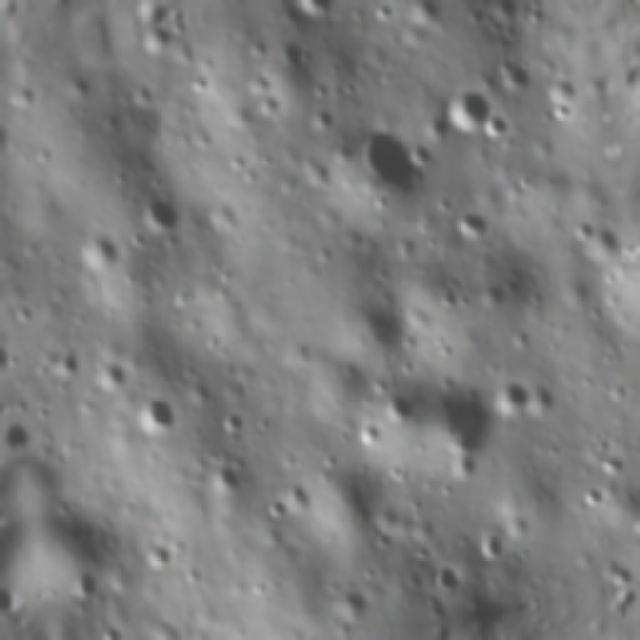crater: (344, 118, 428, 215), (419, 377, 506, 465), (435, 76, 497, 142), (74, 226, 126, 279), (491, 52, 538, 106), (132, 387, 179, 441), (488, 375, 538, 423), (450, 200, 498, 248), (133, 192, 182, 238), (589, 442, 631, 486), (135, 22, 182, 61), (90, 356, 133, 398), (202, 460, 244, 502), (379, 386, 418, 429), (428, 558, 468, 596), (49, 344, 85, 385), (477, 528, 512, 570), (303, 99, 340, 138), (402, 136, 438, 173), (69, 567, 105, 604), (240, 64, 277, 99), (404, 0, 448, 29), (485, 0, 526, 29), (253, 89, 287, 122), (565, 214, 600, 246), (260, 492, 292, 526), (217, 406, 246, 436), (482, 114, 509, 146), (356, 418, 384, 448), (579, 482, 607, 511), (99, 615, 130, 640), (372, 0, 398, 23), (624, 506, 640, 540), (196, 637, 224, 640)
